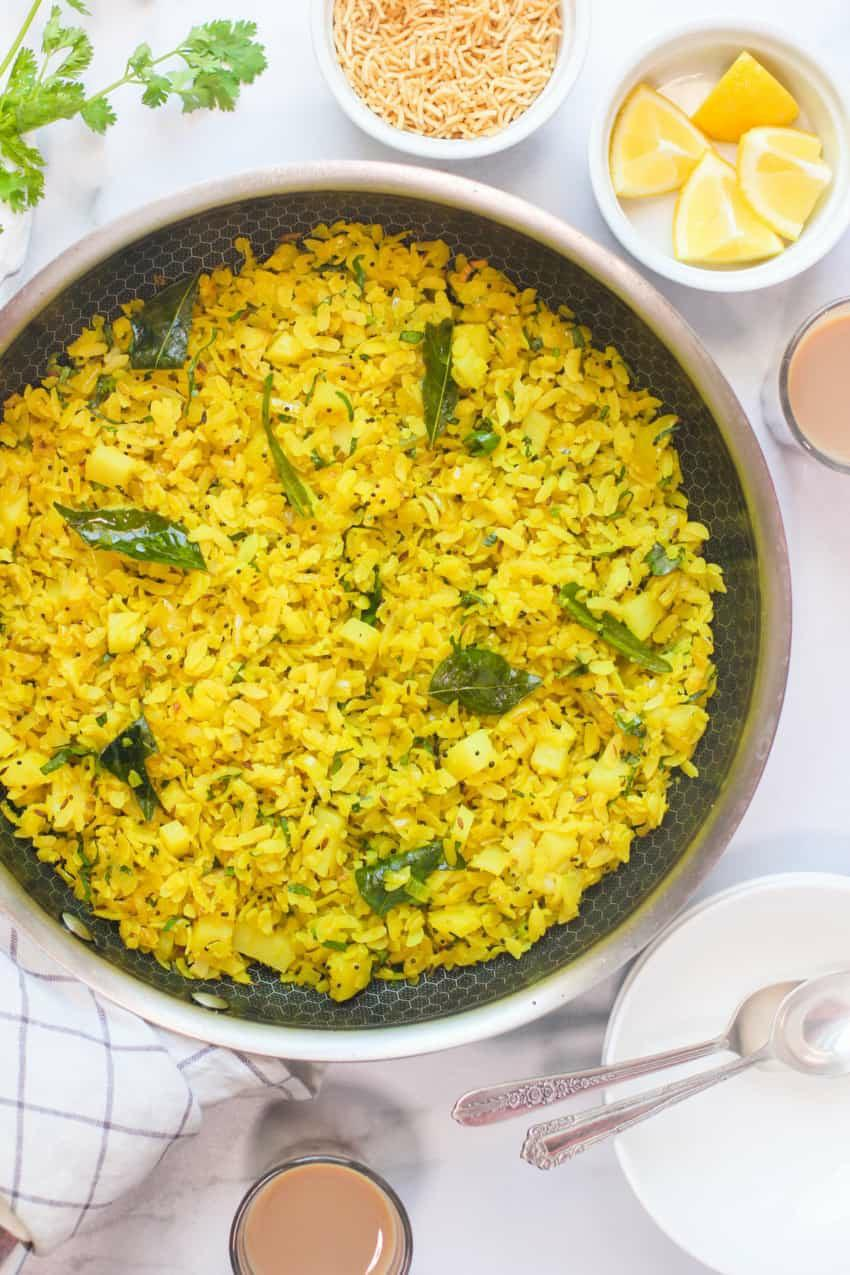Poha: (0, 200, 727, 1000)
